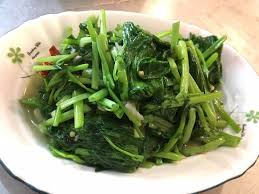water_spinach: (47, 41, 205, 148)
